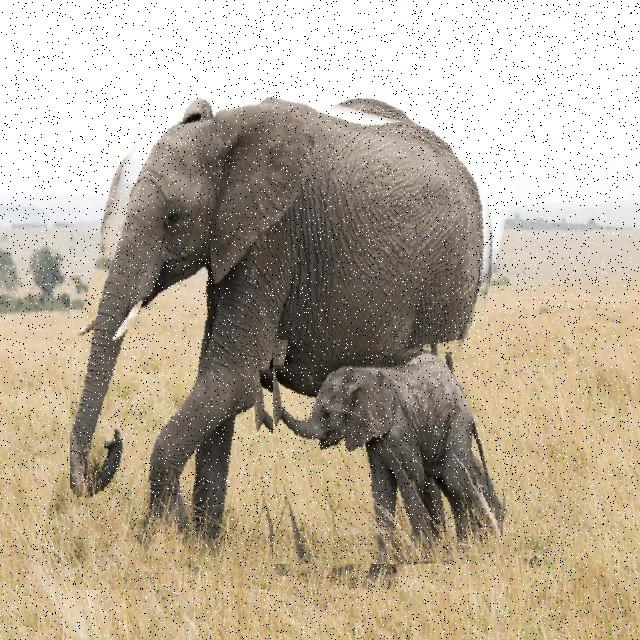elephant: (70, 75, 499, 590), (273, 339, 503, 564)
